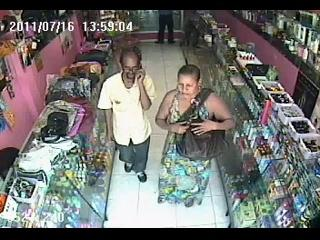Normal: (156, 64, 234, 207), (97, 47, 157, 184), (154, 10, 176, 44), (75, 50, 108, 66)
